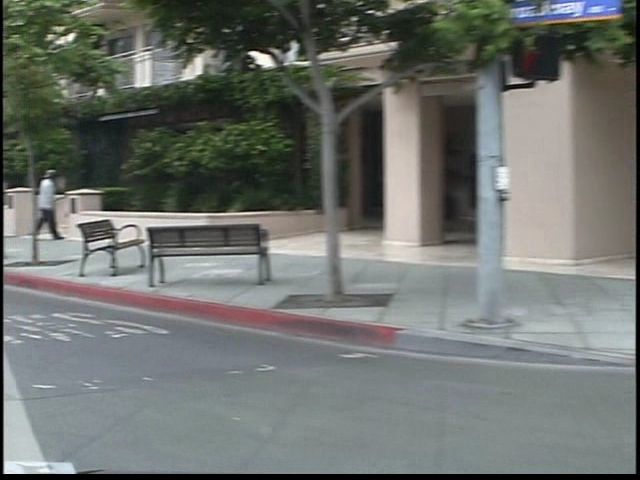person: (18, 161, 58, 251)
